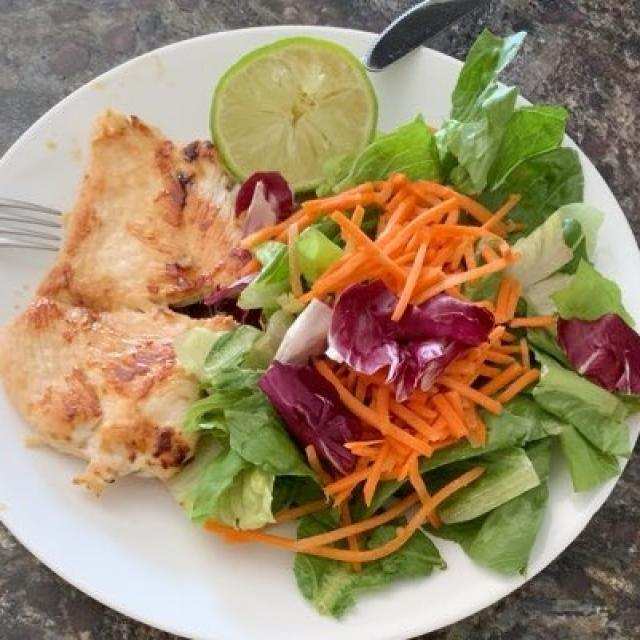carrot: (254, 171, 529, 556)
chicken-breast: (17, 111, 281, 504)
lemon: (207, 34, 367, 184)
salad: (207, 26, 631, 594)
